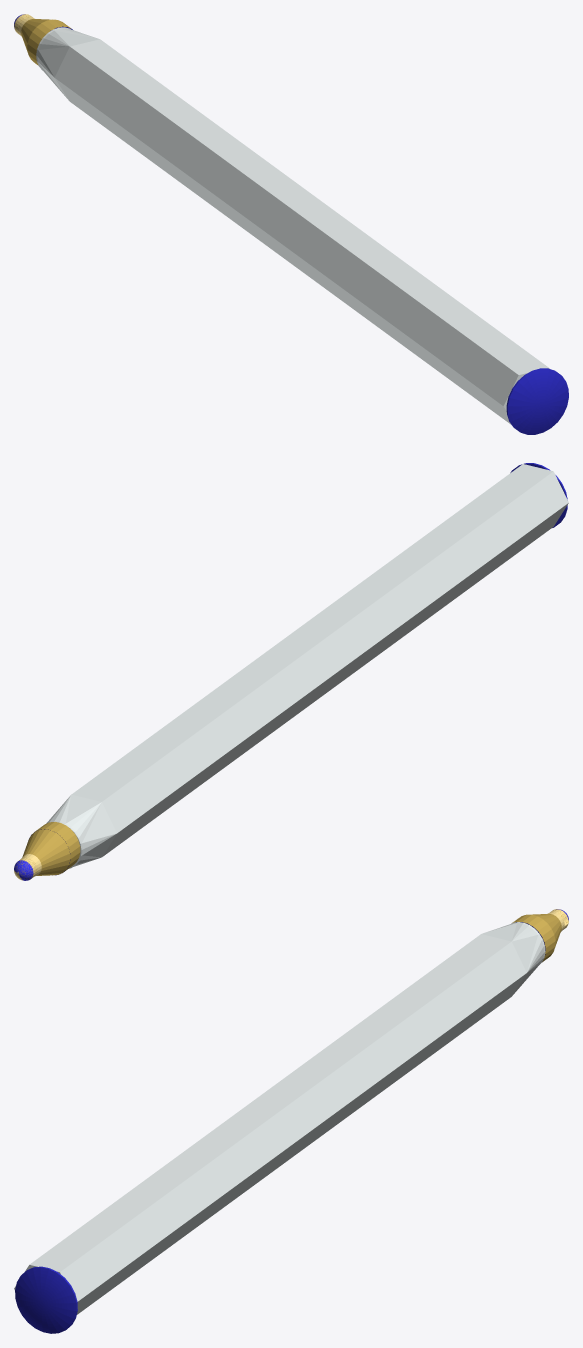
3 renders of one model, top to bottom at view 1: azimuth 30°, elevation 25°; view 2: azimuth 150°, elevation 25°; view 3: azimuth 330°, elevation 25°, orthographic.
Visible parts, largest first — view 1: pen; view 2: pen; view 3: pen.
Boxes of the visible parts, x1=… form: pen: x1=14, y1=14, x2=568, y2=434; pen: x1=14, y1=463, x2=568, y2=880; pen: x1=14, y1=909, x2=568, y2=1333.
Size of the model in its own units: 44.94 by 43.11 by 634.
